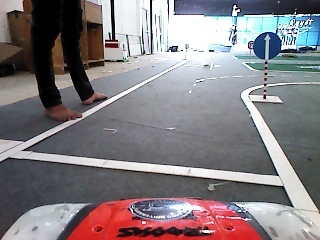straight: (254, 32, 283, 59)
